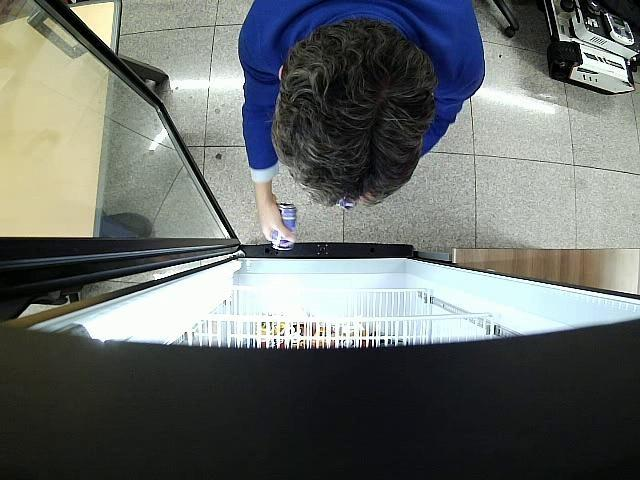14_welchsGrape: (274, 203, 296, 251)
